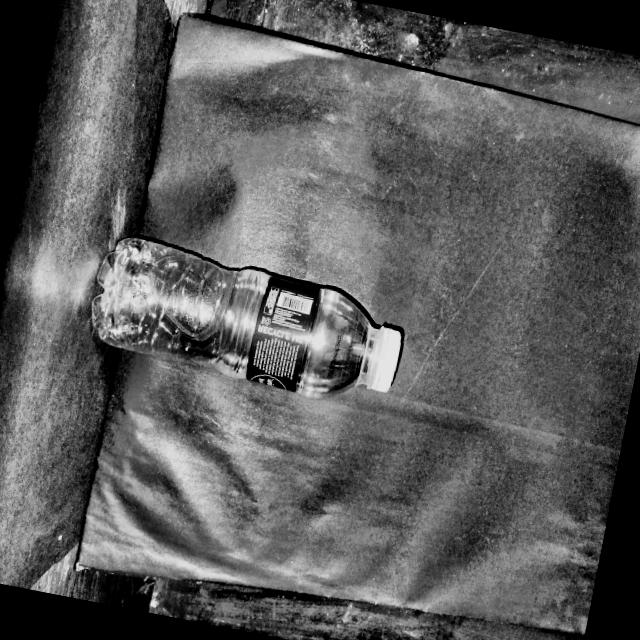Plastic-Bottle: (77, 224, 417, 417)
